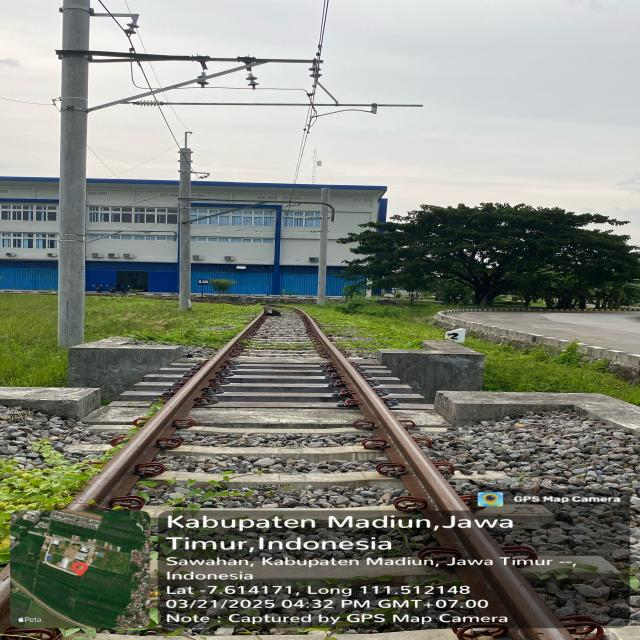rail-detection: (298, 311, 574, 640), (65, 311, 266, 510)
